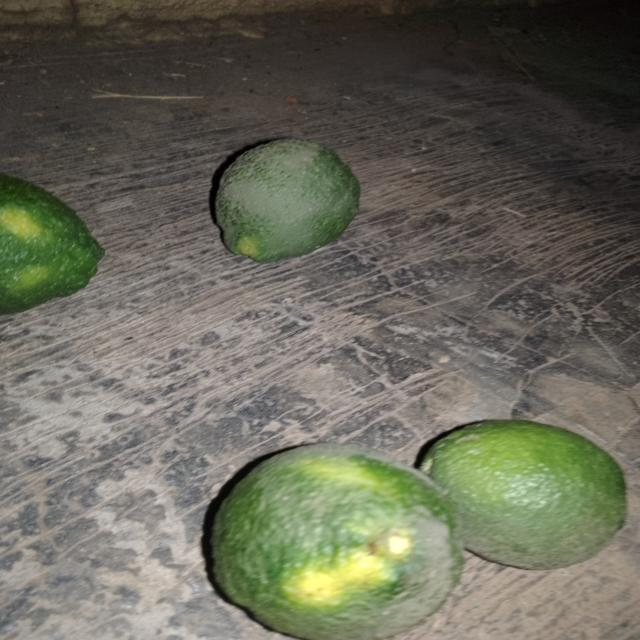Unripe: (203, 434, 468, 640), (431, 412, 634, 597), (203, 131, 378, 289), (8, 166, 109, 332)
